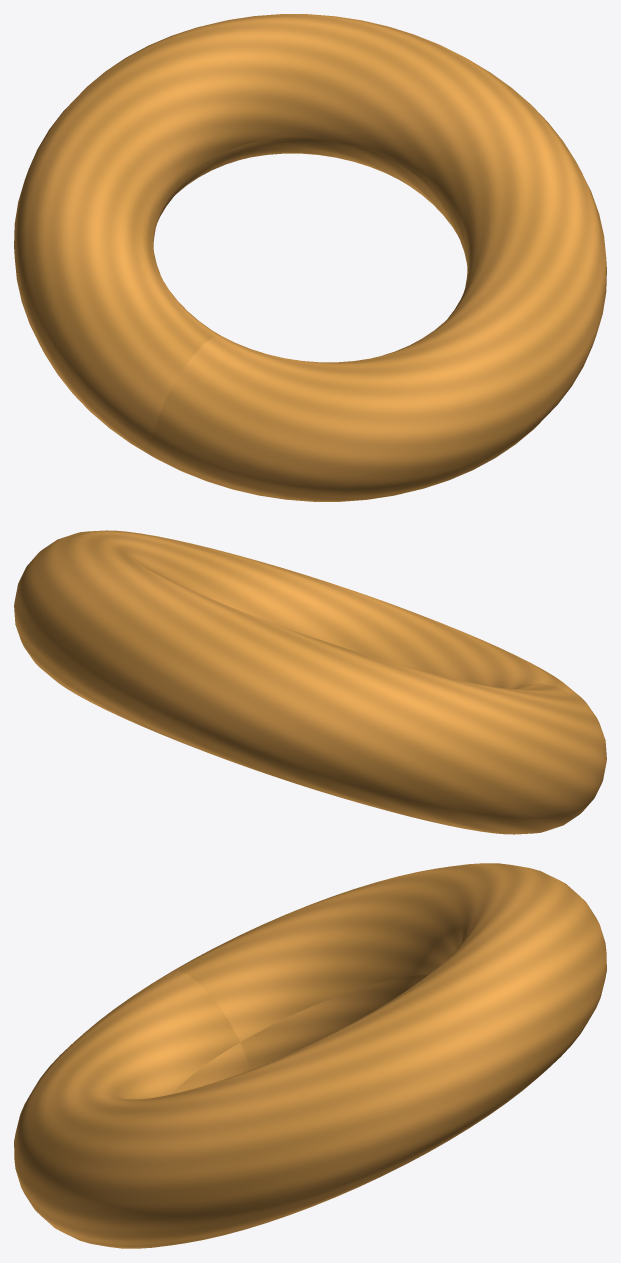
The model's file is PolishedMetalTorus.glb.
The picture shows the model from 3 angles, top to bottom: view 1: azimuth 30°, elevation 25°; view 2: azimuth 150°, elevation 25°; view 3: azimuth 270°, elevation 25°; orthographic projection. The views are drawn at different scales.
Parts seen in each view (by area): view 1: Torus; view 2: Torus; view 3: Torus.
Boxes of the visible parts, x1,y1,x2,y2 form: Torus: (14, 14, 606, 501); Torus: (14, 530, 606, 834); Torus: (14, 863, 606, 1248).
Size of the model in its own units: 2.02 by 1.14 by 1.9.
Materials: 1 (1 with a texture image).
